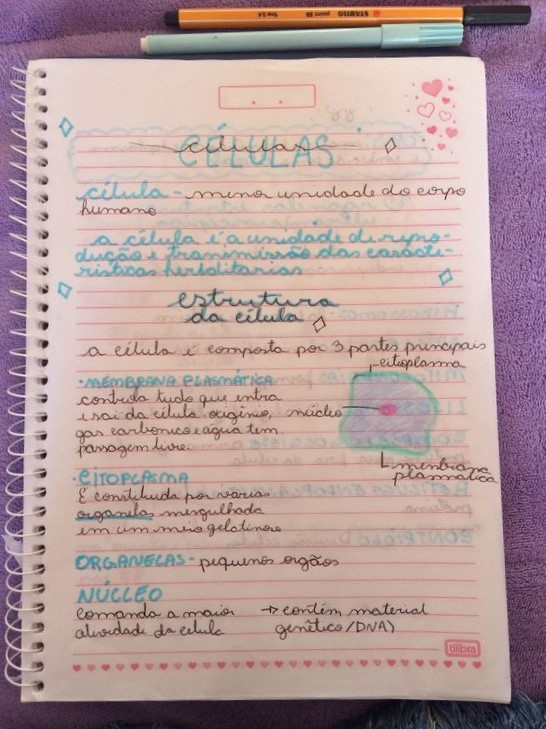page: (50, 60, 487, 692)
